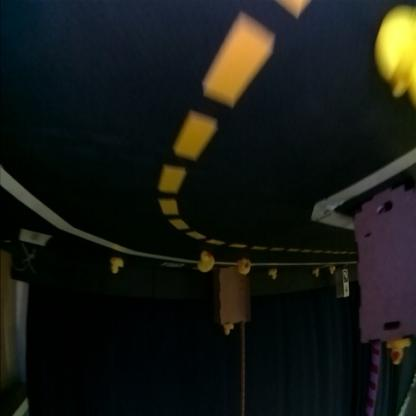Duckie: (375, 9, 415, 109), (388, 340, 411, 364), (200, 251, 214, 272), (111, 260, 124, 274), (238, 260, 251, 274), (224, 325, 234, 335), (270, 270, 278, 280), (314, 270, 320, 278), (331, 266, 336, 274)
QR code: (162, 262, 184, 268), (344, 272, 350, 284)
